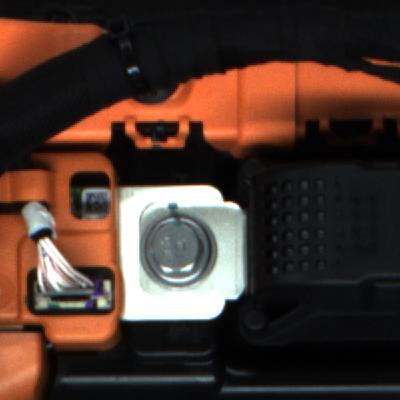nut_b: (143, 208, 217, 289)
